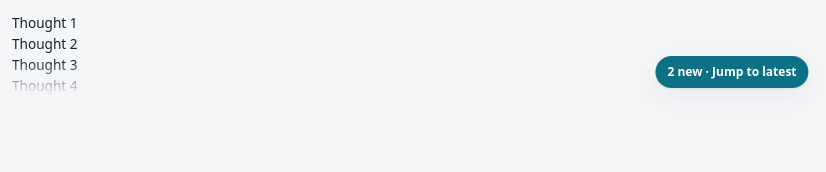
Test: ThoughtsBox › stops following after the teacher scrolls up and offers Jump to latest with a count
Click the button "2 new · Jump to latest" at (732, 72), box [655,56,809,88]
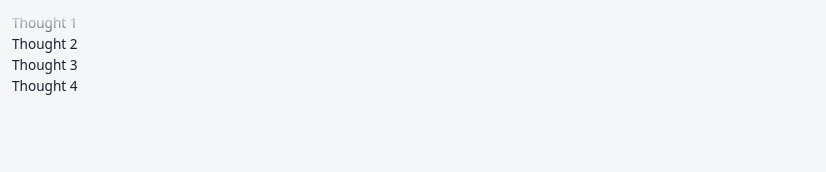
Result: the button "Jump to latest" is gone
